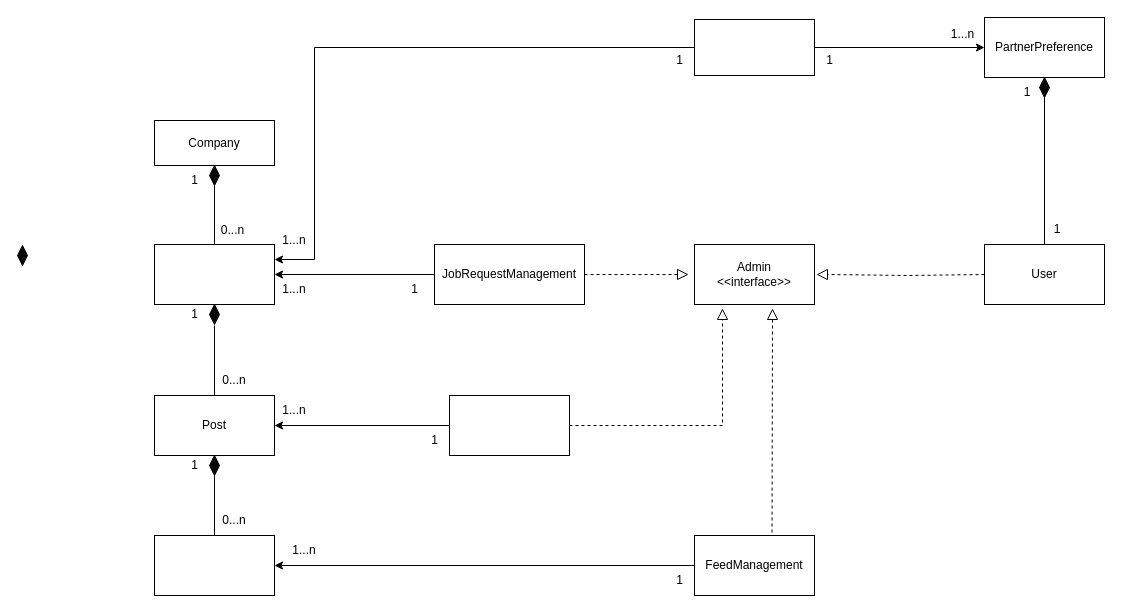
Some shapes in this 1122 by 613 pixel diagram are drawn without their labels. Each missing label, with the centre of its shape:
"Feed" belongs at (x=214, y=565).
"JobPosition" belongs at (x=214, y=274).
"MatchingSystem" belongs at (x=754, y=47).
"PostManagement" belongs at (x=509, y=425).
